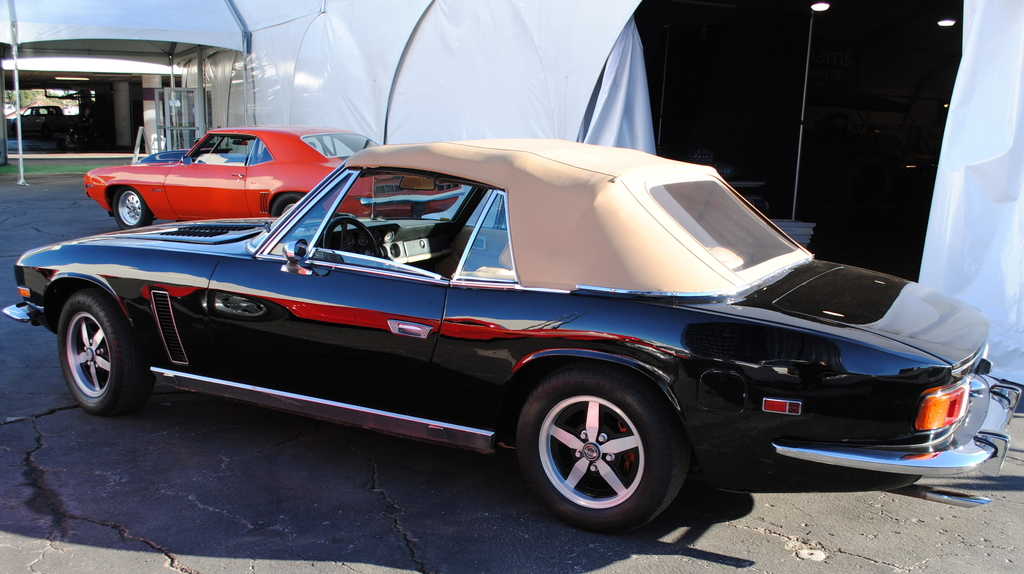car: (2, 123, 1024, 543), (68, 113, 391, 233)
